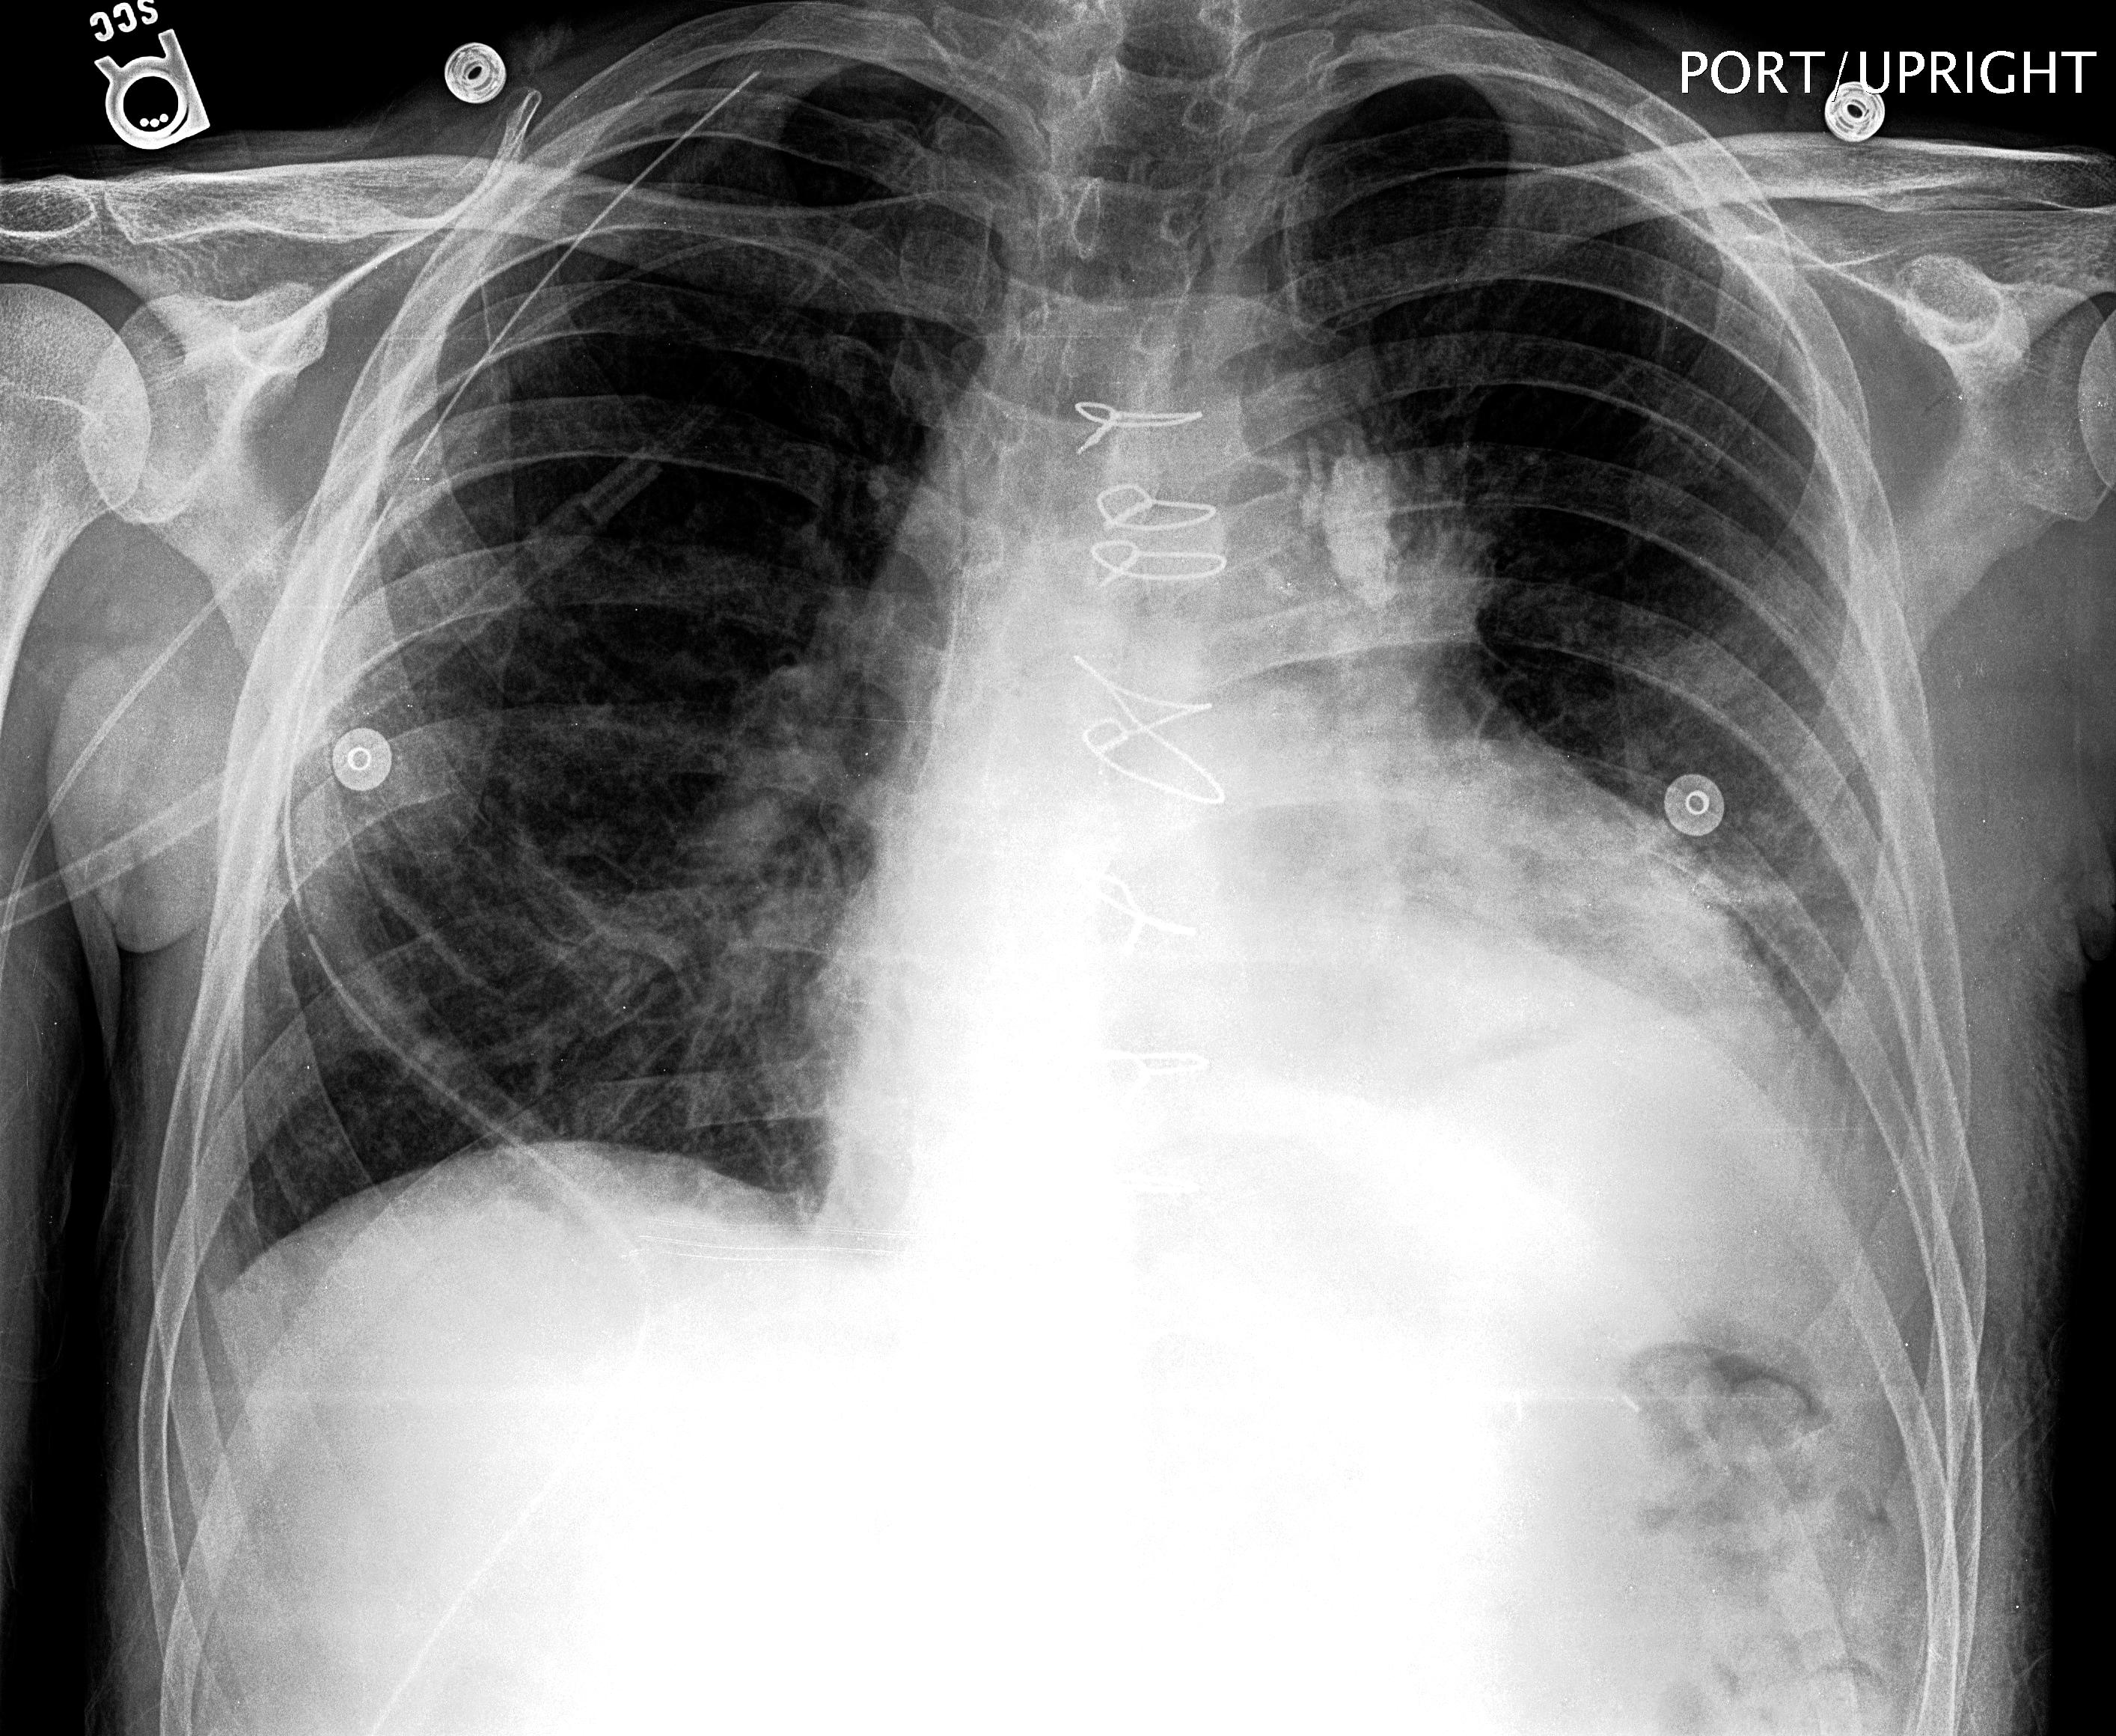Pleural Effusion: (1441, 1005, 1970, 1388)
